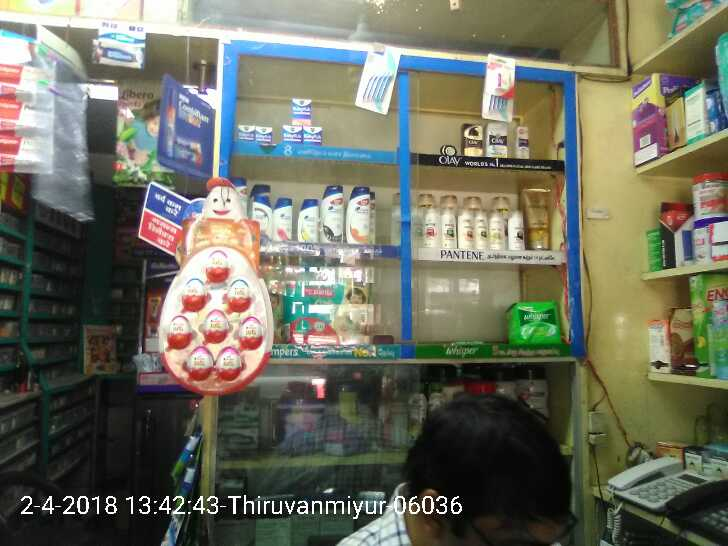vicks: (235, 90, 322, 146)
